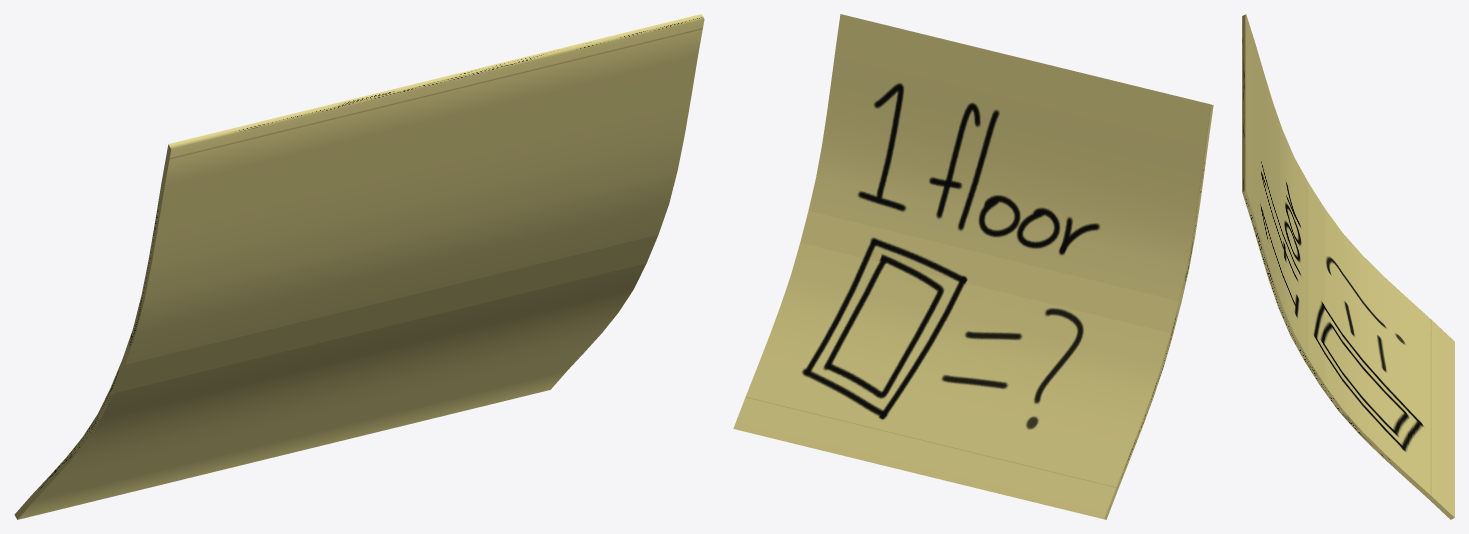
The model's file is 3Day Paper.fbx.
3 renders of one model, left to right at view 1: azimuth 30°, elevation 25°; view 2: azimuth 150°, elevation 25°; view 3: azimuth 270°, elevation 25°, orthographic. The views are drawn at different scales.
Parts seen in each view (by area): view 1: Cube; view 2: Cube; view 3: Cube.
Part boxes in pixels (x1,y1,x2,y2): Cube: (14, 14, 704, 519); Cube: (733, 14, 1213, 519); Cube: (1242, 14, 1454, 519).
Bounding box in the file's own units: 200 × 174 × 102.
